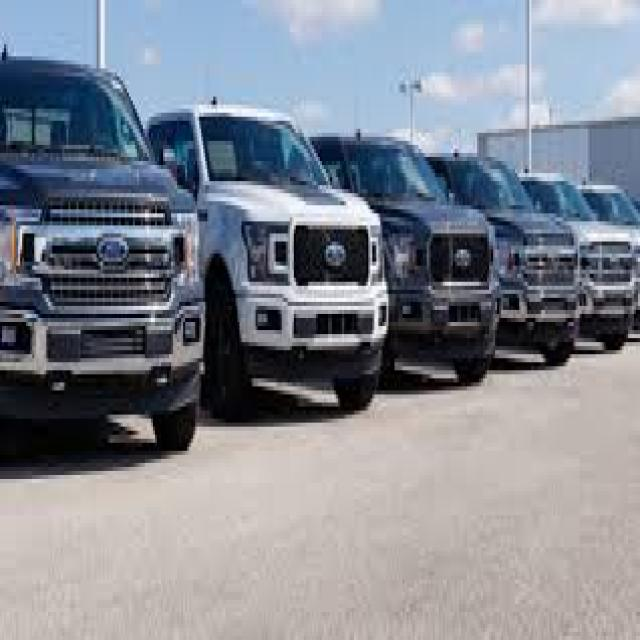Pickup Trucks: (2, 36, 203, 451), (202, 100, 388, 422), (387, 125, 501, 378), (503, 137, 580, 366), (582, 165, 636, 350)
